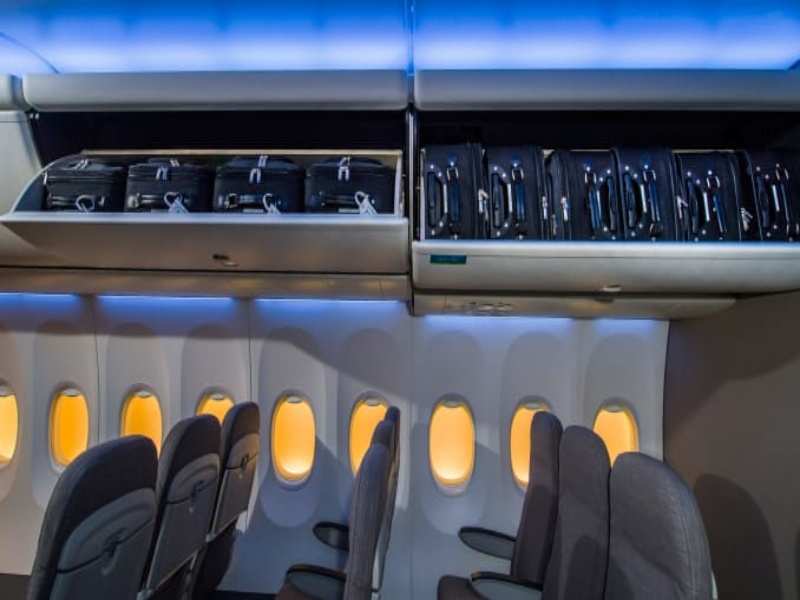open_bin: (415, 75, 800, 296), (21, 79, 411, 273)
